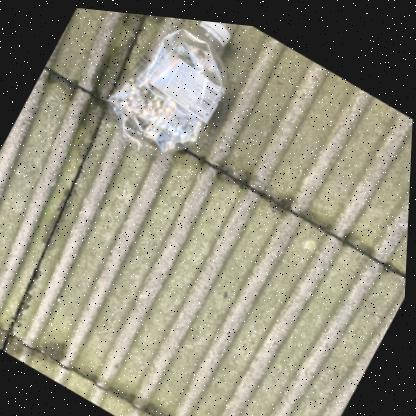Plastic: (108, 16, 231, 149)
